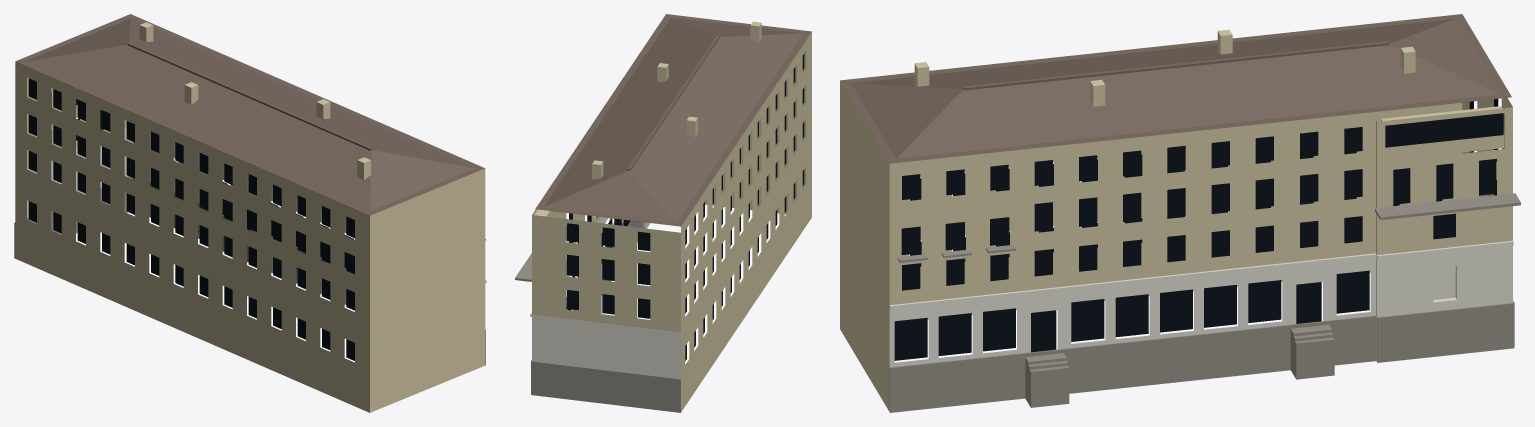
3 renders of one model, left to right at view 1: azimuth 30°, elevation 25°; view 2: azimuth 150°, elevation 25°; view 3: azimuth 270°, elevation 25°, orthographic. The views are drawn at different scales.
Visible parts, largest first — view 1: bm14_wall, bm14_roof, bm14_glass, bm14_wall2, bm14_stone; view 2: bm14_wall, bm14_roof, bm14_wall2, bm14_stone, bm14_glass; view 3: bm14_wall, bm14_roof, bm14_glass, bm14_stone, bm14_wall2.
Part boxes in pixels (x1=…): bm14_wall: x1=15, y1=22, x2=485, y2=412; bm14_roof: x1=15, y1=14, x2=484, y2=215; bm14_glass: x1=28, y1=78, x2=354, y2=360; bm14_wall2: x1=27, y1=128, x2=486, y2=304; bm14_stone: x1=14, y1=176, x2=485, y2=365; bm14_wall: x1=532, y1=21, x2=811, y2=411; bm14_roof: x1=535, y1=14, x2=811, y2=226; bm14_wall2: x1=530, y1=217, x2=680, y2=378; bm14_stone: x1=515, y1=219, x2=680, y2=412; bm14_glass: x1=566, y1=53, x2=804, y2=360; bm14_wall: x1=840, y1=29, x2=1512, y2=411; bm14_roof: x1=840, y1=14, x2=1511, y2=163; bm14_glass: x1=894, y1=98, x2=1503, y2=360; bm14_stone: x1=889, y1=193, x2=1520, y2=412; bm14_wall2: x1=889, y1=195, x2=1513, y2=367.
Bounding box in the file's own units: 23.69 × 20.3 × 44.64.
